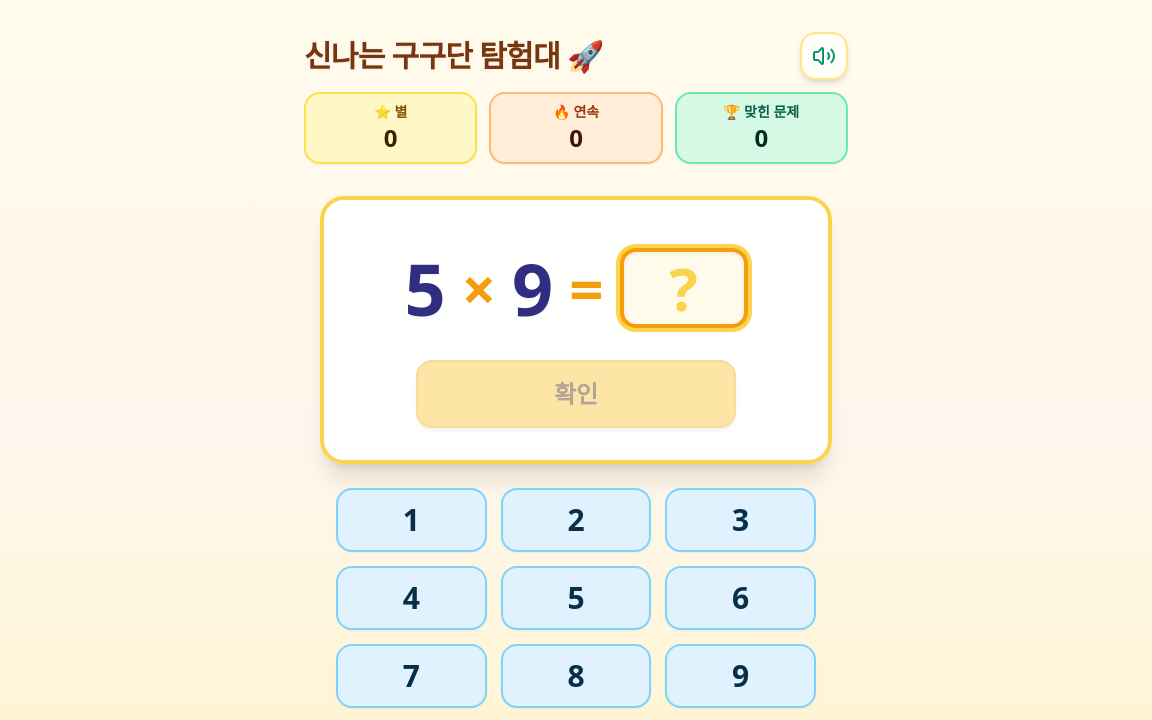
it: App Integration › toggles sound mute state when sound button is clicked
Click the button named "음소거 토글": click(824, 56) x1=800 y1=32 x2=848 y2=80
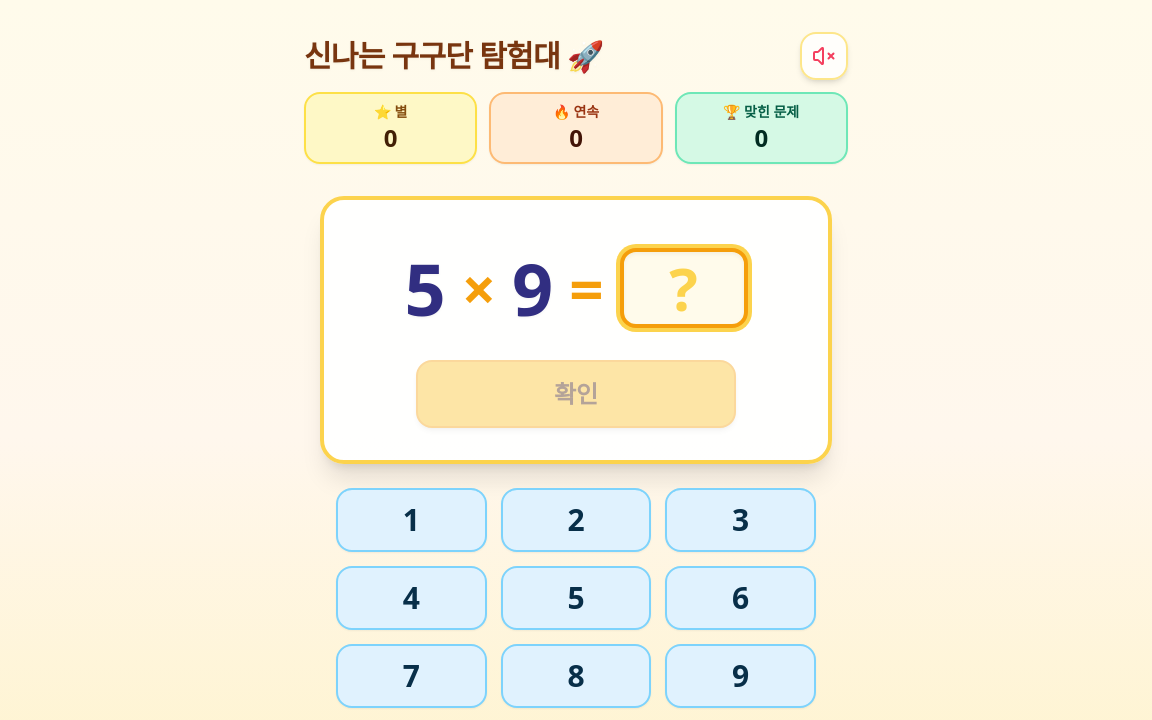
Expected: the button named "음소거 해제" is shown
Click the button named "음소거 해제": click(824, 56) x1=800 y1=32 x2=848 y2=80
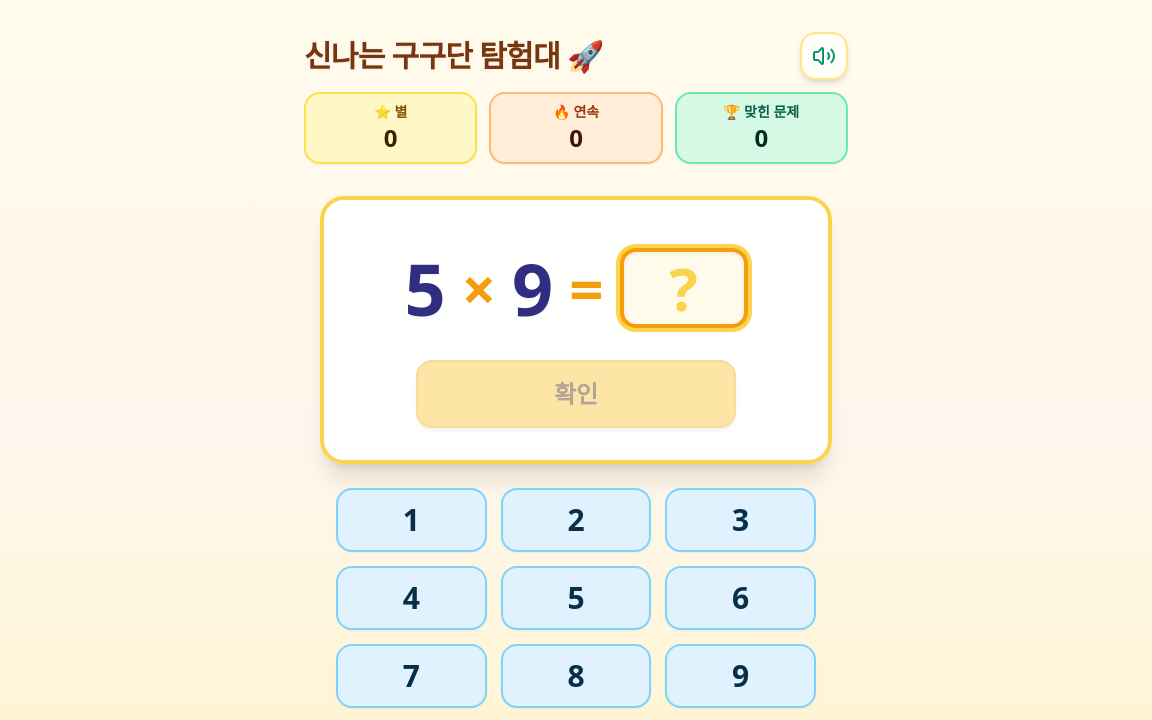
Expected: the button named "음소거 토글" is shown, x1=800 y1=32 x2=848 y2=80
